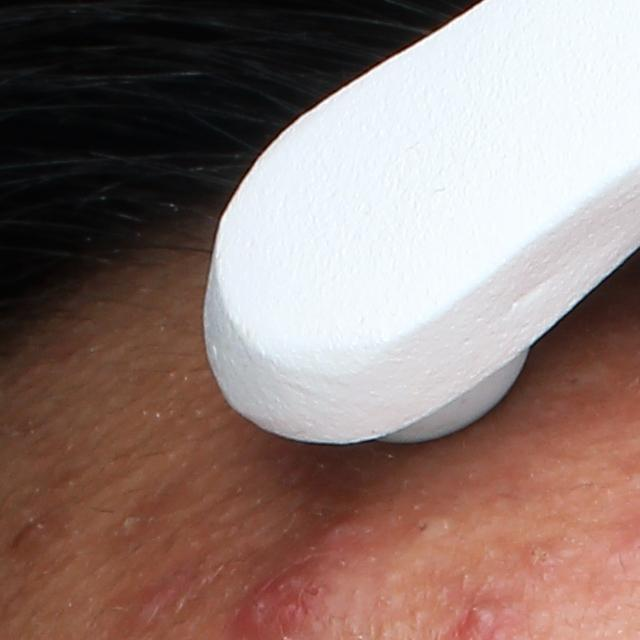comedo: (412, 515, 437, 537)
papule: (315, 506, 381, 555)
